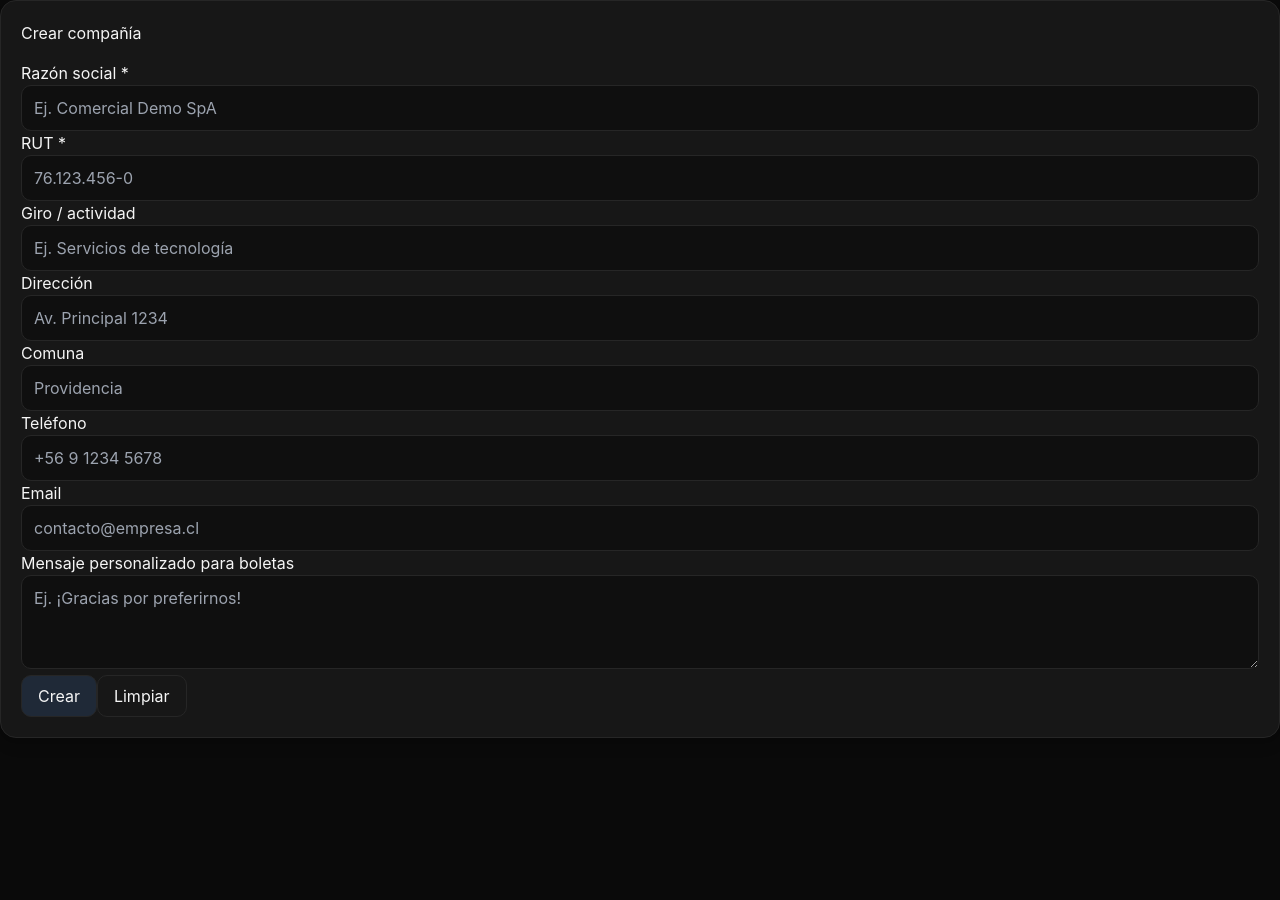
Test: CreateCompanyForm › muestra errores cuando los campos obligatorios están vacíos
Click the button "Crear" at {"x": 59, "y": 696}, box left=21, top=675, right=97, bottom=717
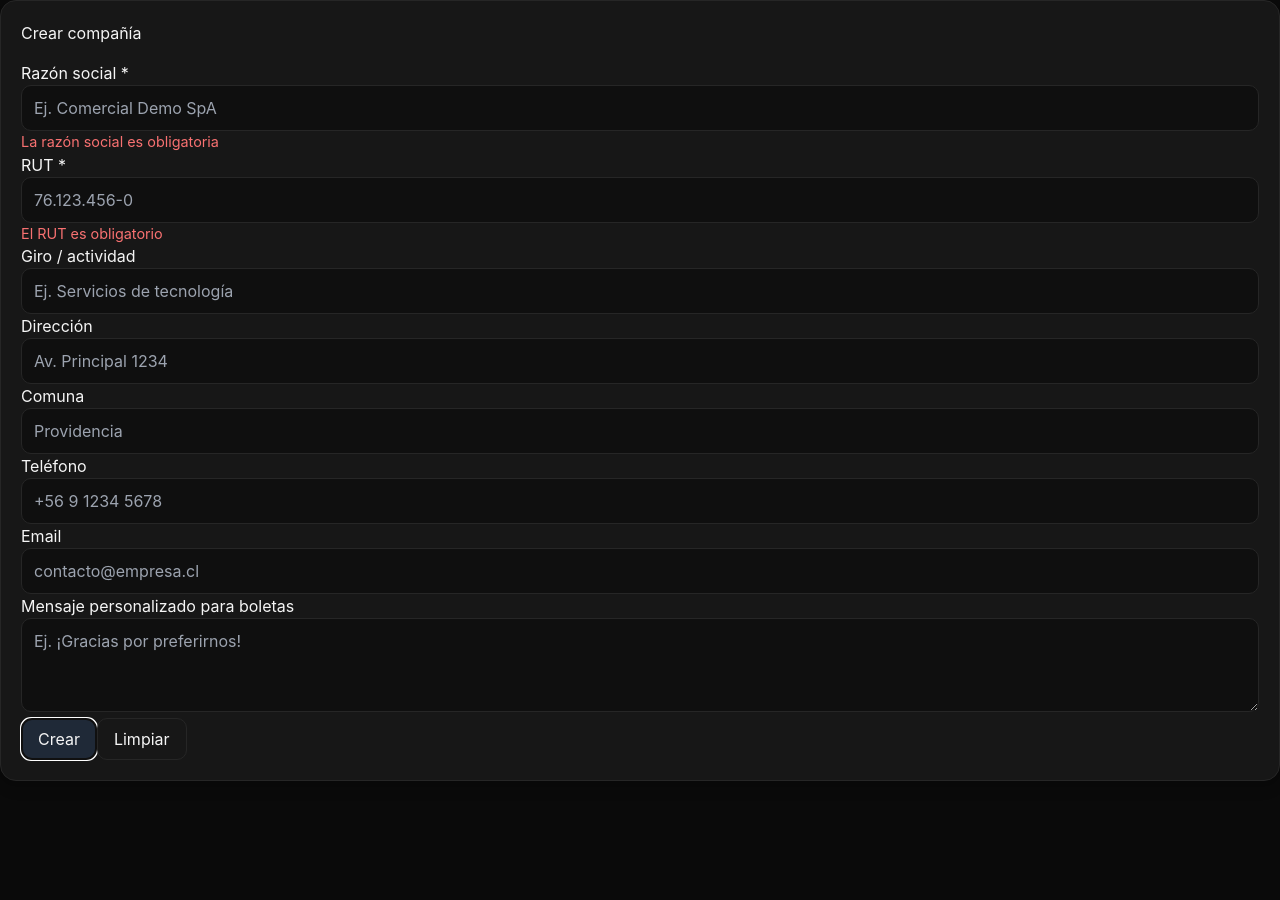
Now the text "La razón social es obligatoria" is shown, box left=21, top=133, right=219, bottom=150
Now the text "El RUT es obligatorio" is shown, box left=21, top=225, right=163, bottom=242
